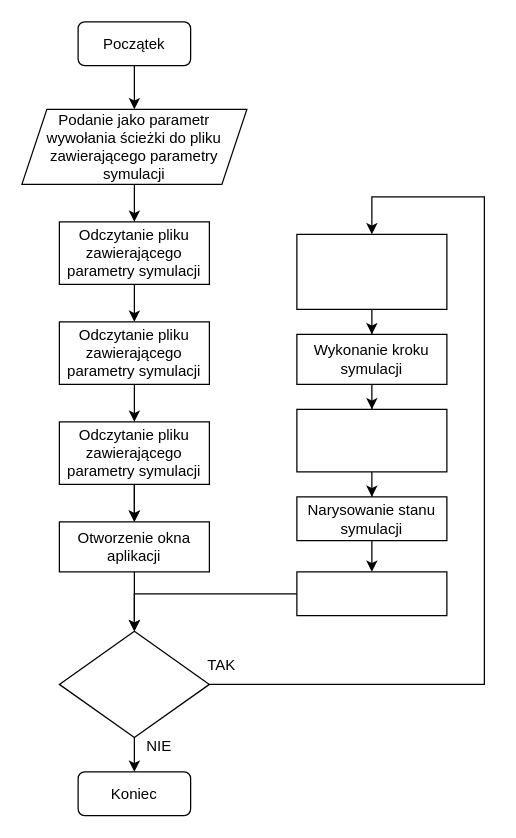
Image size: 516x838. Some labels were removed from this diagram. The shapes that lost their labels are listed below. From the top down, each one's centre as x and y in pixels, then its label:
[371,271]: Wykonanie algorytmu weryfikującego poprawność stanu symulacji
[371,440]: Zapisanie wartości energii i ciśnienia do pliku
[371,593]: Narysowanie interfejsu graficznego
[133,684]: Okno aplikacji jest otwarte?
